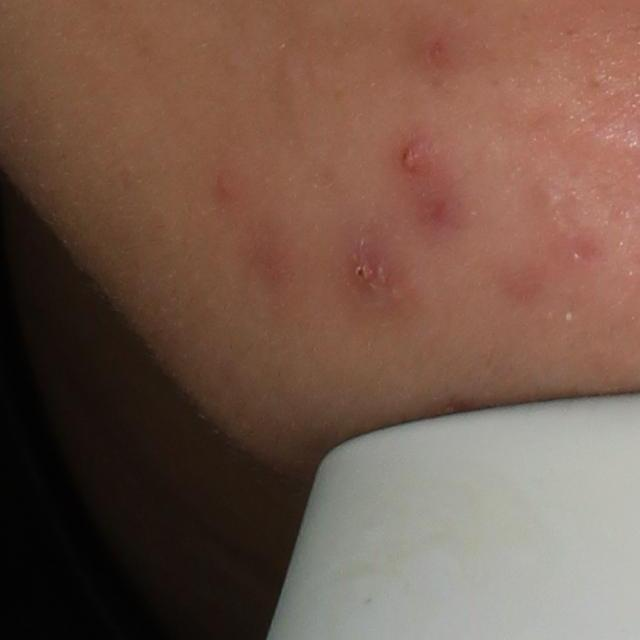comedo: (523, 171, 569, 220)
papule: (388, 129, 449, 189), (345, 243, 392, 294)
